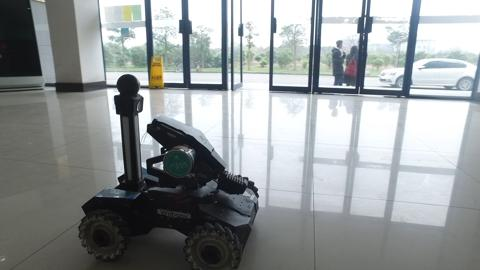chariot: (59, 72, 271, 270)
